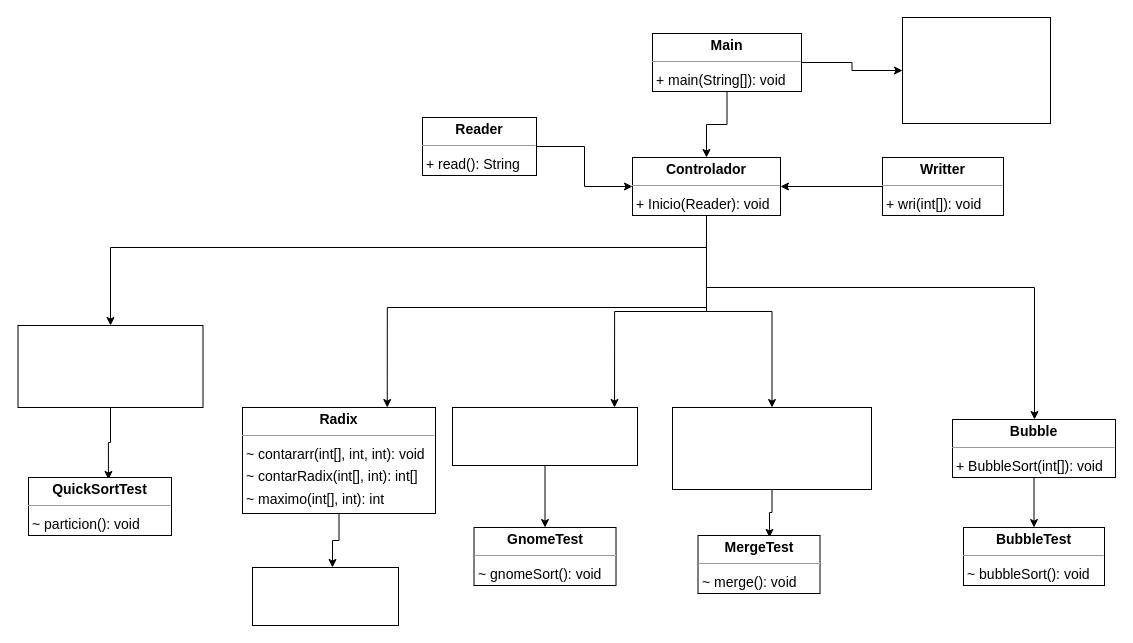
This 1133x643 diagram has some shape labels left out. Here are the shapes that lost their labels. From the top down, the centre of each, then its label:
At (x=976, y=70): "CrearDatos + datos(Writter): void + DatsOrga(): void + Shuffle(): void".
At (x=110, y=366): "QuickSort ~ particion(int[], int, int): int ~ arreglar(int[], int, int): void".
At (x=545, y=436): "Gnome + GnomeSort(int[], int): void".
At (x=772, y=448): "Merge ~ contar(int[], int, int): void ~ merge(int[], int, int, int): void".
At (x=325, y=596): "RadixTest ~ contarRadix(): void".
